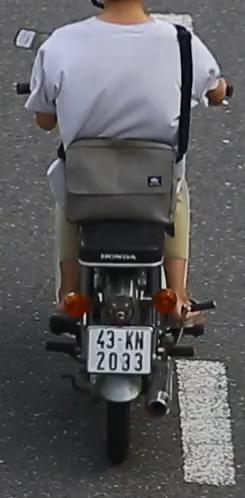LP: (84, 322, 155, 377)
